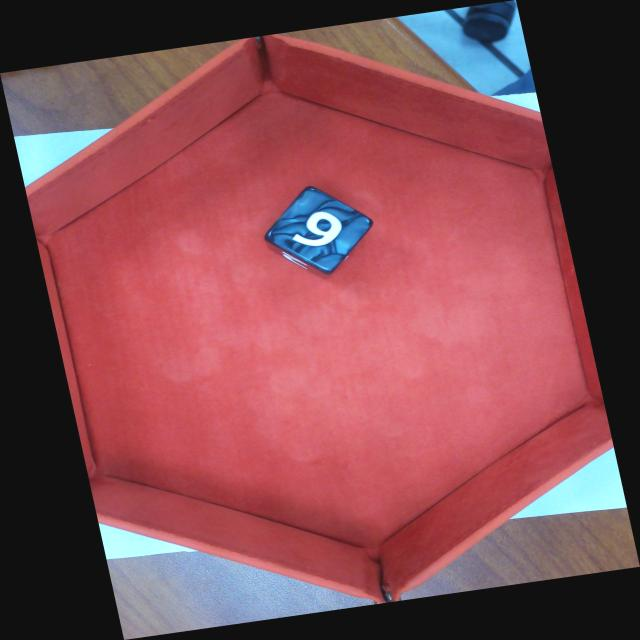dice: (265, 184, 372, 272)
